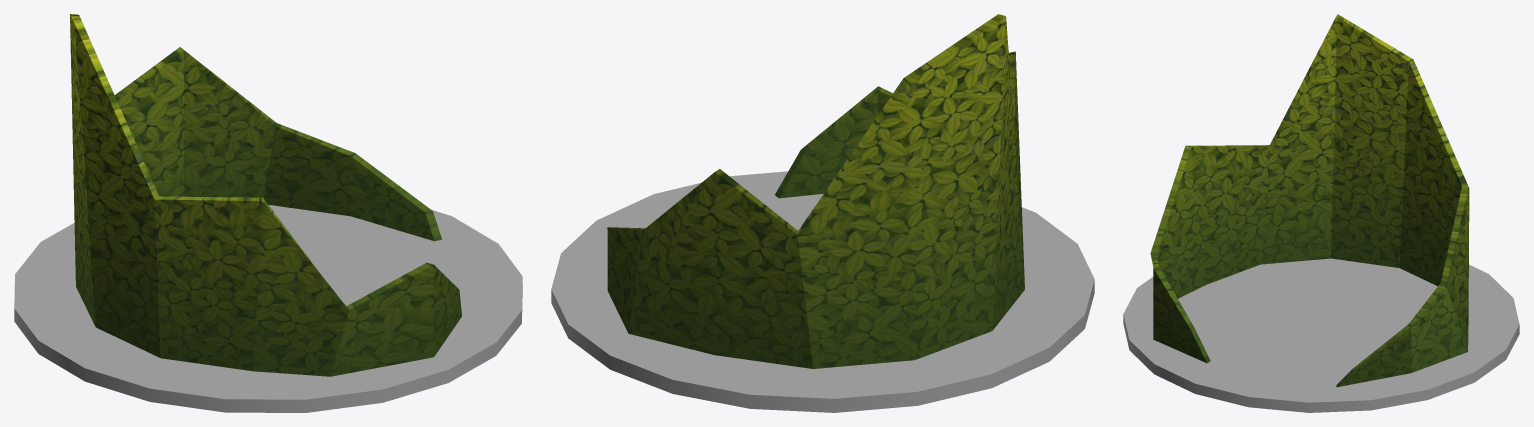
Rendered from bush.fbx.
3 renders of one model, left to right at view 1: azimuth 30°, elevation 25°; view 2: azimuth 150°, elevation 25°; view 3: azimuth 270°, elevation 25°, orthographic. The views are drawn at different scales.
Parts seen in each view (by area): view 1: bush1, pCylinder10; view 2: bush1, pCylinder10; view 3: bush1, pCylinder10.
Boxes of the visible parts, x1=… form: bush1: x1=70, y1=14, x2=461, y2=376; pCylinder10: x1=14, y1=205, x2=522, y2=412; bush1: x1=607, y1=14, x2=1024, y2=368; pCylinder10: x1=551, y1=171, x2=1094, y2=412; bush1: x1=1150, y1=14, x2=1469, y2=387; pCylinder10: x1=1123, y1=258, x2=1519, y2=412.
Bounding box in the file's own units: 20.55 × 14.1 × 20.55.
Materials: 2 (1 with a texture image).
